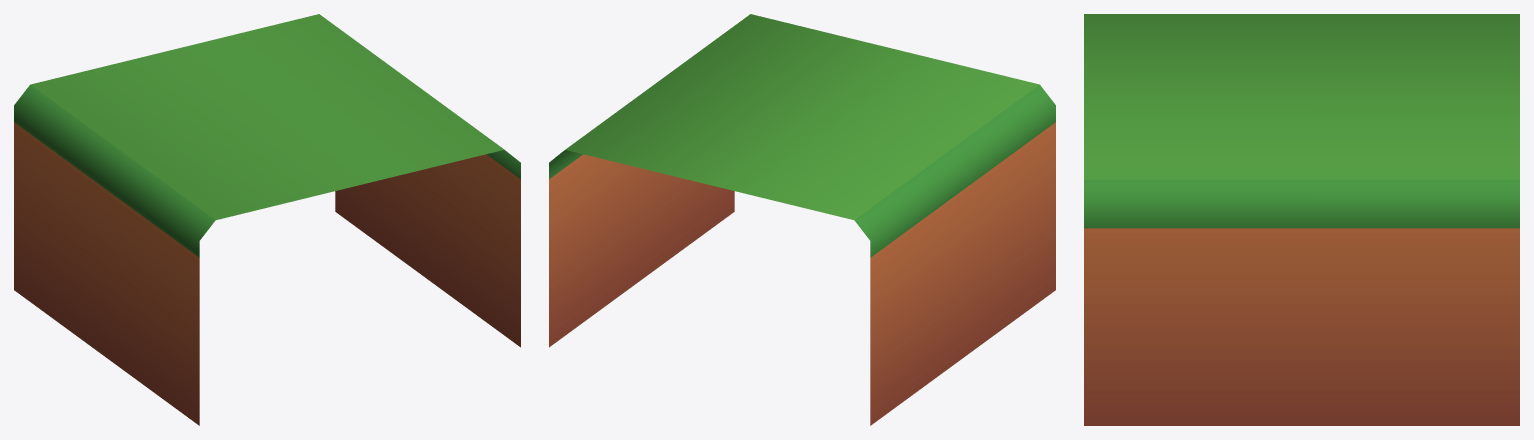
File: Straight S Path 01.FBX
The picture shows the model from 3 angles, left to right: view 1: azimuth 30°, elevation 25°; view 2: azimuth 150°, elevation 25°; view 3: azimuth 270°, elevation 25°; orthographic projection. The views are drawn at different scales.
Visible parts, largest first — view 1: Straight S Path 01; view 2: Straight S Path 01; view 3: Straight S Path 01.
Part boxes in pixels (bbox=[...]): Straight S Path 01: bbox=[14, 14, 520, 425]; Straight S Path 01: bbox=[549, 14, 1055, 425]; Straight S Path 01: bbox=[1084, 14, 1519, 425].
Bounding box in the file's own units: 500 × 300 × 500.
Materials: 1 (1 with a texture image).
